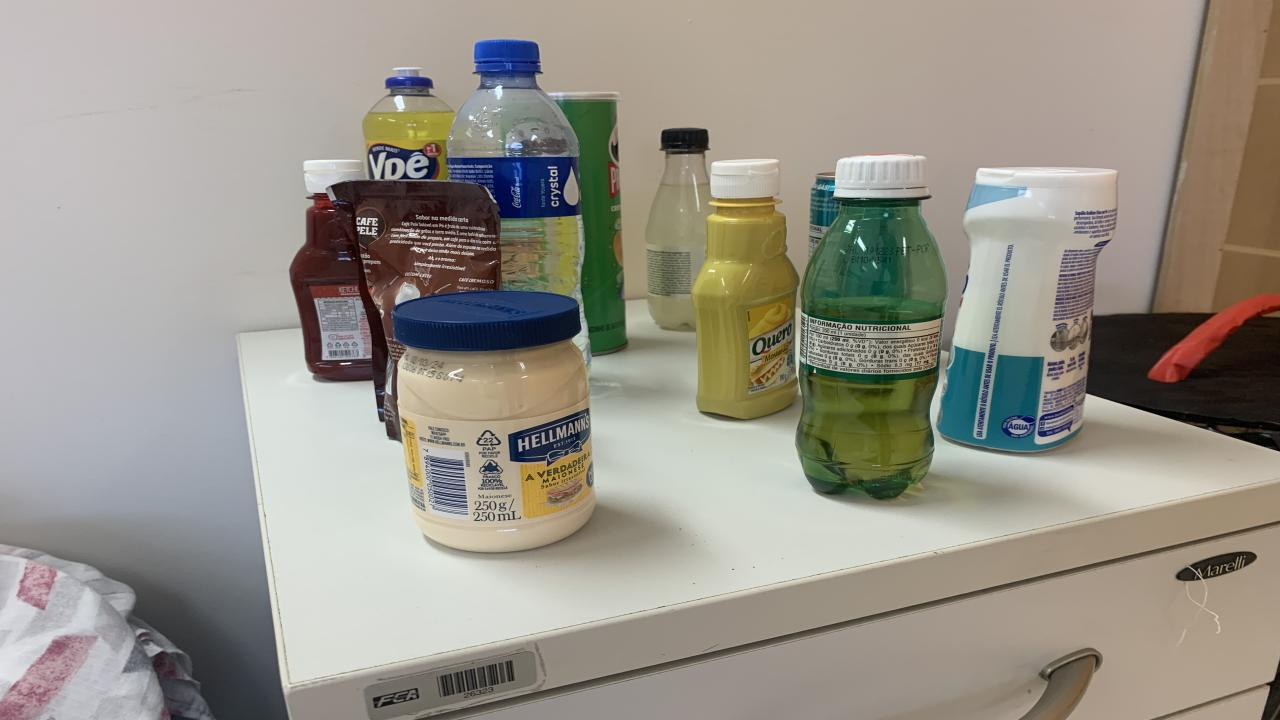Cleaner-Cleanup_Items: (938, 167, 1118, 452)
Coffee-Pantry_Items: (328, 180, 502, 439)
Detergent-Cleanup_Items: (362, 68, 455, 180)
Guarana-Drinks: (795, 154, 948, 499)
Ketchup-Pantry_Items: (290, 159, 372, 381)
Mayonnaise-Pantry_Items: (392, 291, 595, 551)
Mustard-Pantry_Items: (692, 159, 798, 418)
Pringles-Snacks: (550, 92, 628, 354)
Soda-Drinks: (645, 128, 712, 330)
Tea-Drinks: (808, 172, 840, 257)
Water_Bottle-Drinks: (448, 41, 585, 302)
